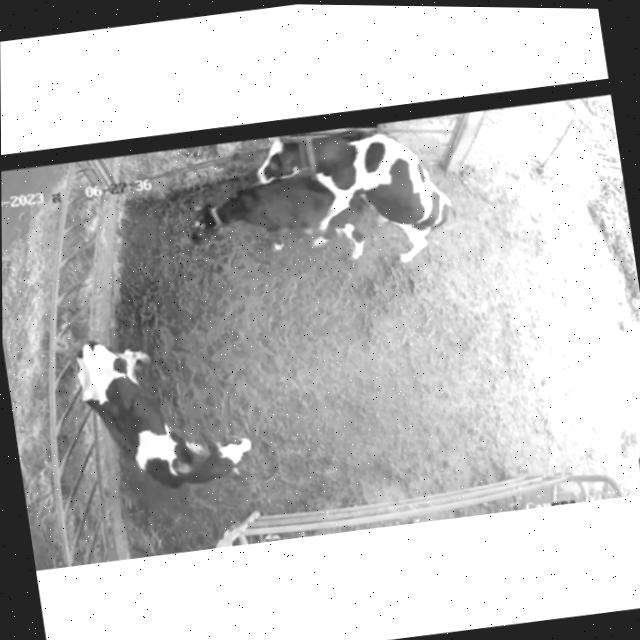ride: (248, 112, 468, 295)
